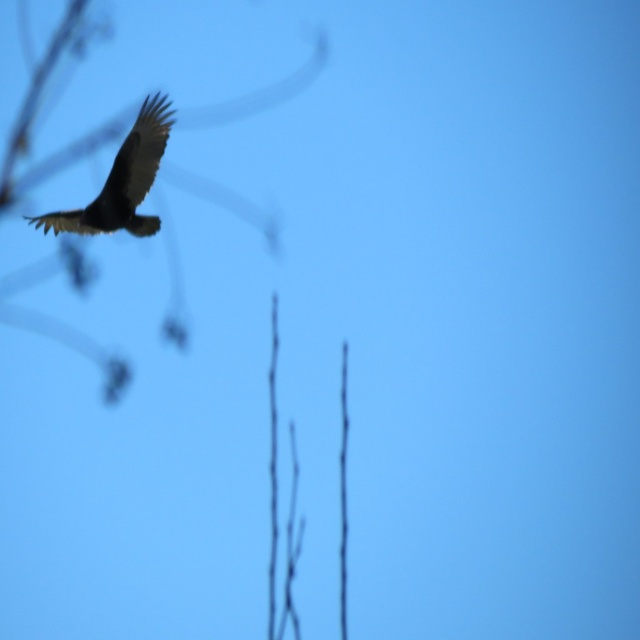Eagle: (24, 86, 178, 246)
